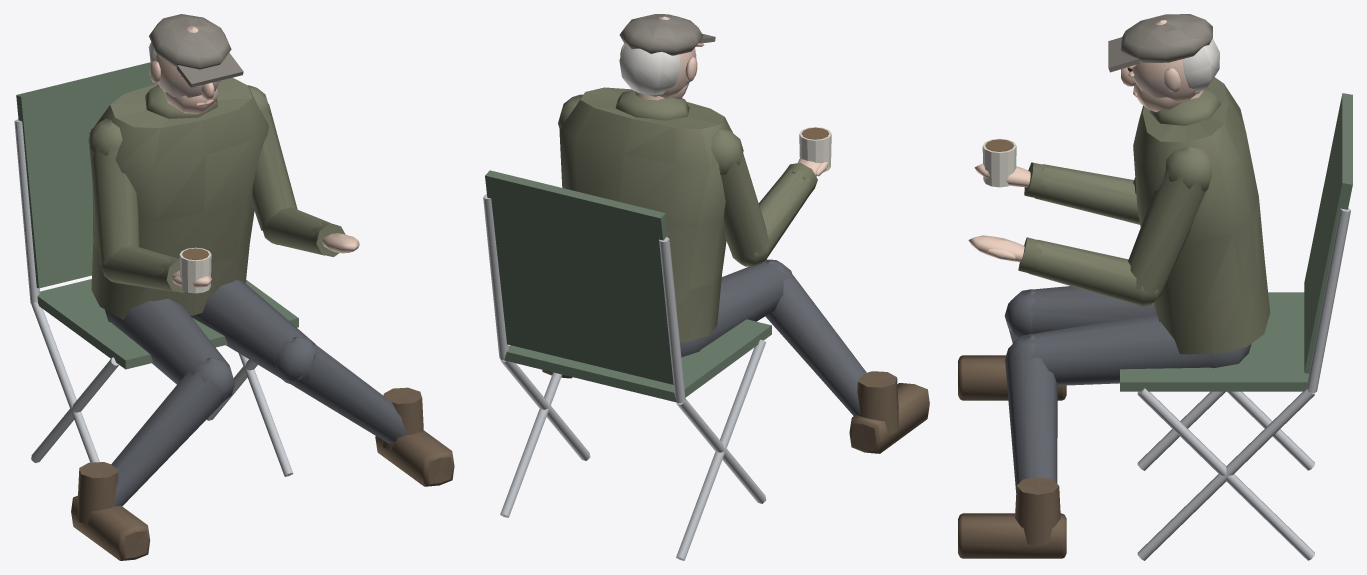
File: ellis_sitting_a_mug.glb
3 renders of one model, left to right at view 1: azimuth 30°, elevation 25°; view 2: azimuth 150°, elevation 25°; view 3: azimuth 270°, elevation 25°, orthographic. The views are drawn at different scales.
Visible parts, largest first — view 1: body; view 2: body; view 3: body.
Boxes of the visible parts, x1=… form: body: x1=14, y1=14, x2=454, y2=560; body: x1=483, y1=14, x2=929, y2=560; body: x1=958, y1=14, x2=1352, y2=560.
Bounding box in the file's own units: 0.9902 × 1.28 × 0.927.
